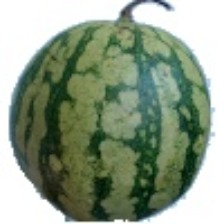watermelon: (33, 32, 224, 203)
